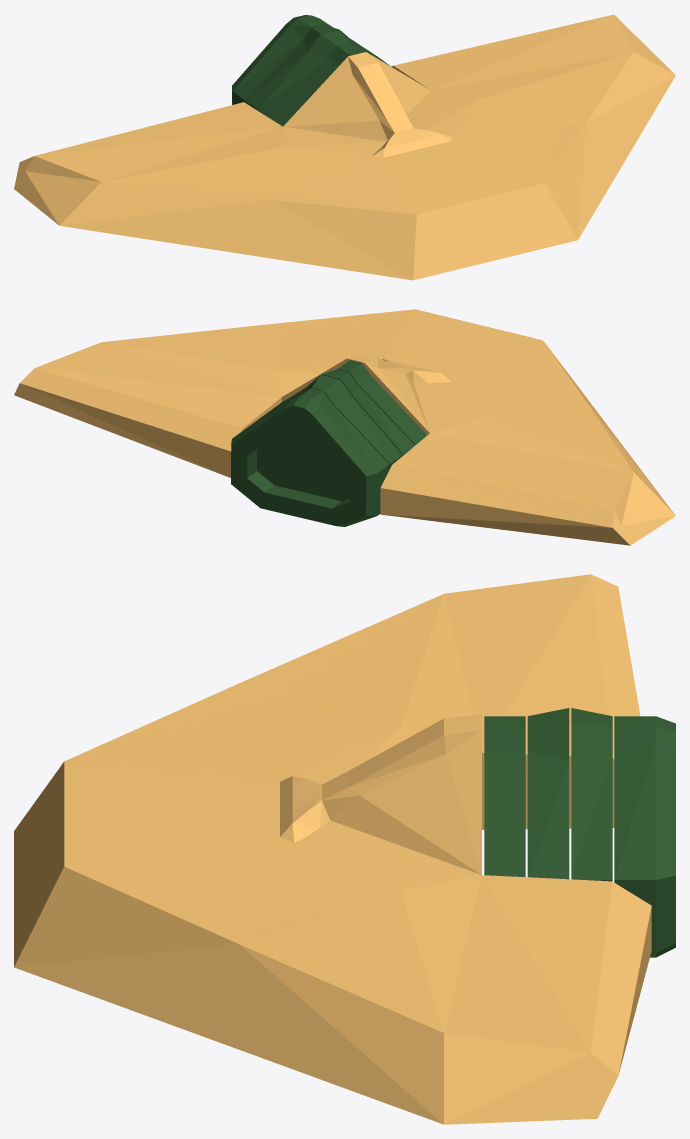
File: BLOCKWing.obj
3 views of the same model, one above another, from view 1: azimuth 30°, elevation 25°; view 2: azimuth 150°, elevation 25°; view 3: azimuth 270°, elevation 25° (orthographic). The views are drawn at different scales.
Parts seen in each view (by area): view 1: 1_BLOCKWING_Material.007, 2_ENGINEBLOCK.001_Material.002; view 2: 1_BLOCKWING_Material.007, 2_ENGINEBLOCK.001_Material.002; view 3: 1_BLOCKWING_Material.007, 2_ENGINEBLOCK.001_Material.002.
Boxes of the visible parts, left/top/right/bottom form: 1_BLOCKWING_Material.007: left=14, top=14, right=675, bottom=280; 2_ENGINEBLOCK.001_Material.002: left=232, top=15, right=391, bottom=126; 1_BLOCKWING_Material.007: left=14, top=309, right=675, bottom=545; 2_ENGINEBLOCK.001_Material.002: left=231, top=360, right=427, bottom=526; 1_BLOCKWING_Material.007: left=14, top=574, right=651, bottom=1124; 2_ENGINEBLOCK.001_Material.002: left=484, top=708, right=675, bottom=957.
Size of the model in its own units: 10.18 by 1.94 by 5.6.
